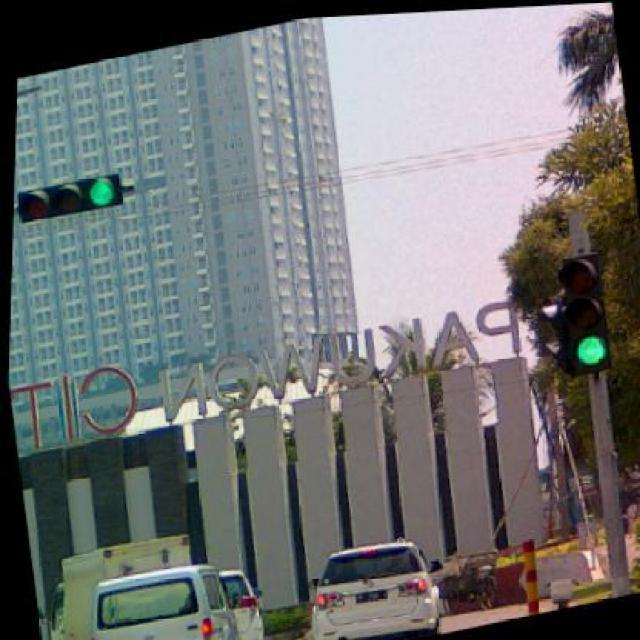green_light: (550, 253, 608, 372), (15, 172, 126, 220)
